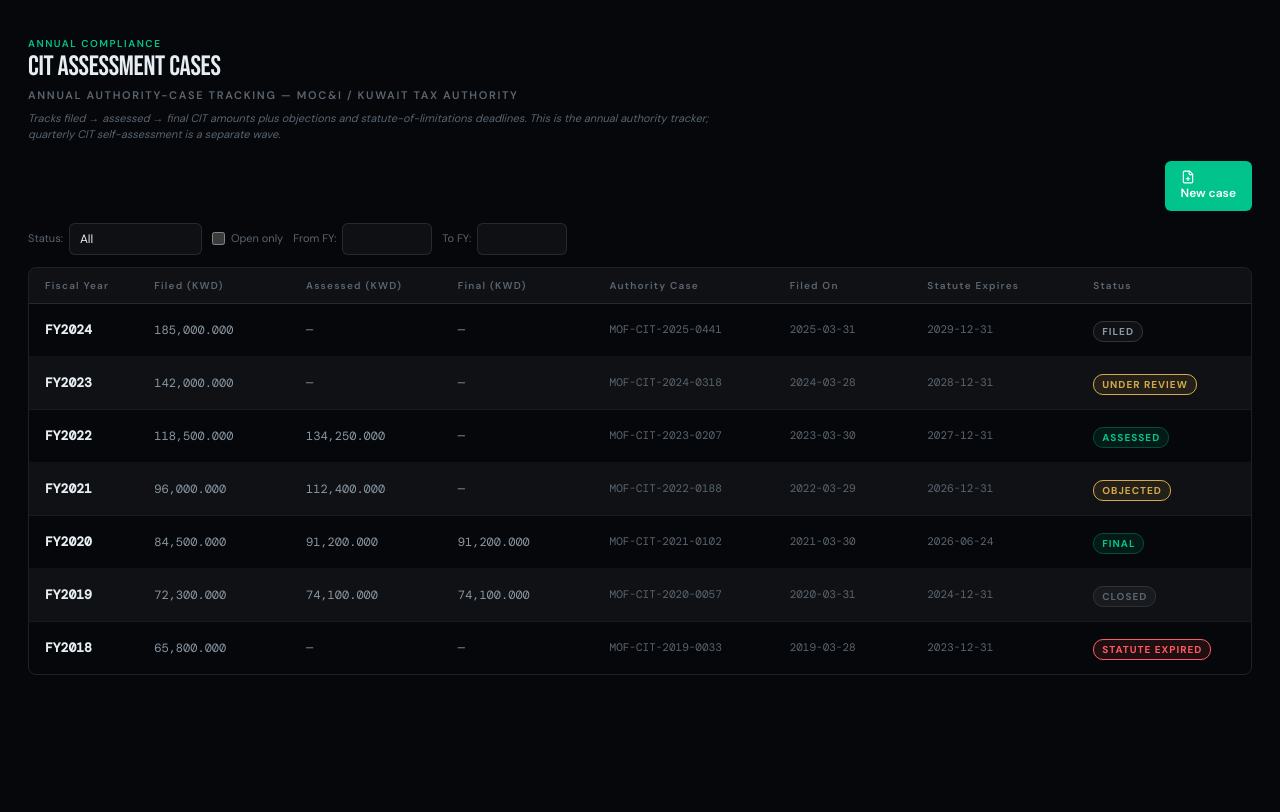
Test: CITAssessmentScreen — per-case detail › FILED: shows Open Review + Record Assessment action buttons
The image size is (1280, 812).
Click the button with test id "cit-row-2024" at (640,330), box [29,304,1251,356]
(page scrolled)
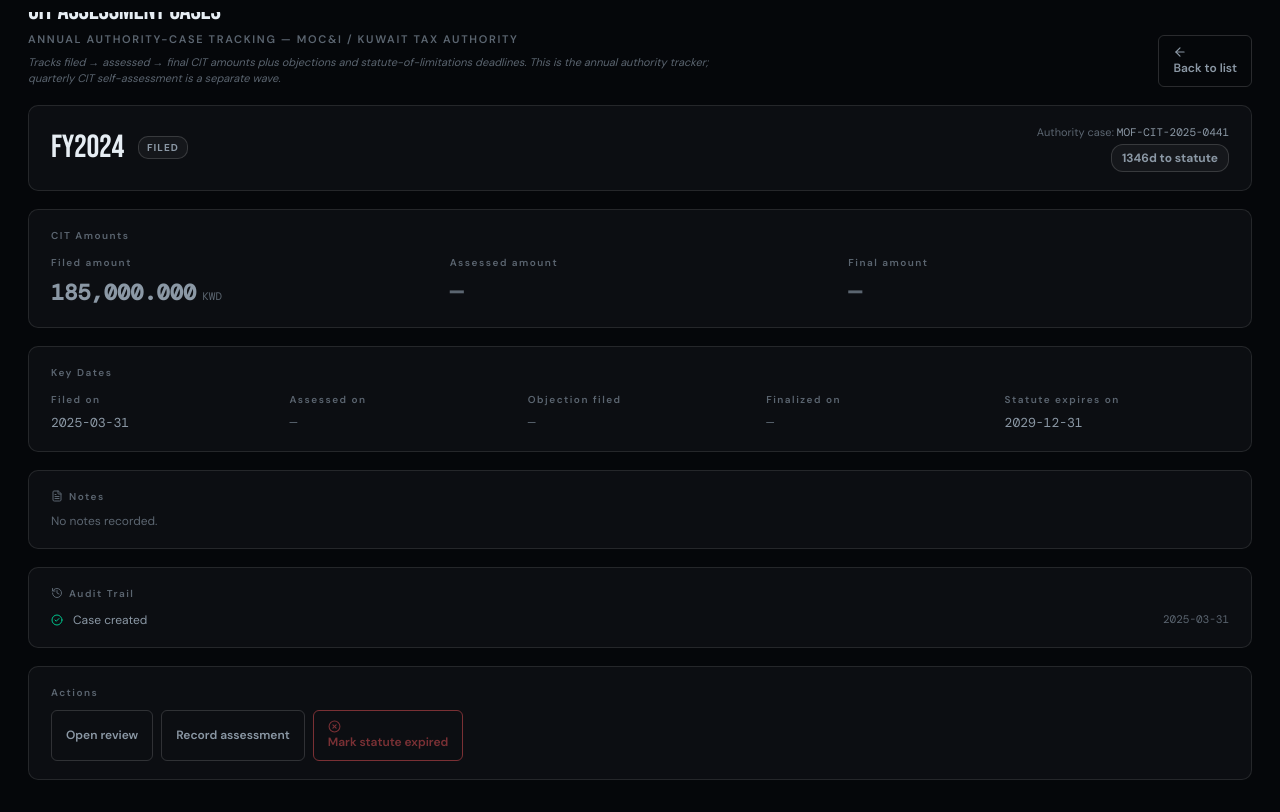
Expected: the element with test id "cit-detail-view" is shown
Expected: the button with test id "cit-action-open-review" is shown, [51,710,153,760]
Expected: the button with test id "cit-action-record-assessment" is shown, [161,710,305,760]
